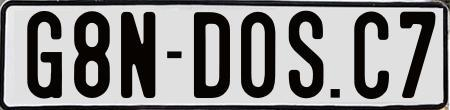0: (240, 10, 276, 97)
7: (398, 9, 431, 96)
8: (71, 8, 111, 98)
C: (354, 9, 394, 100)
D: (191, 9, 227, 100)
G: (27, 11, 63, 99)
N: (118, 12, 152, 104)
S: (287, 10, 322, 103)
